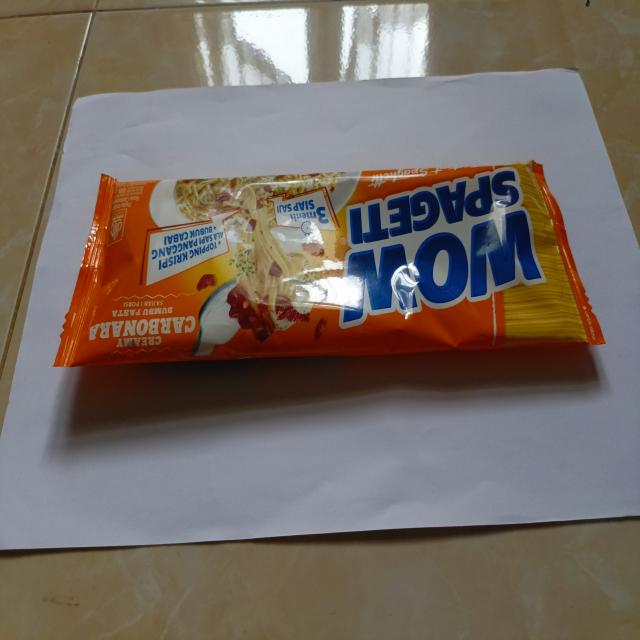indomie-tori-miso: (52, 155, 606, 376)
